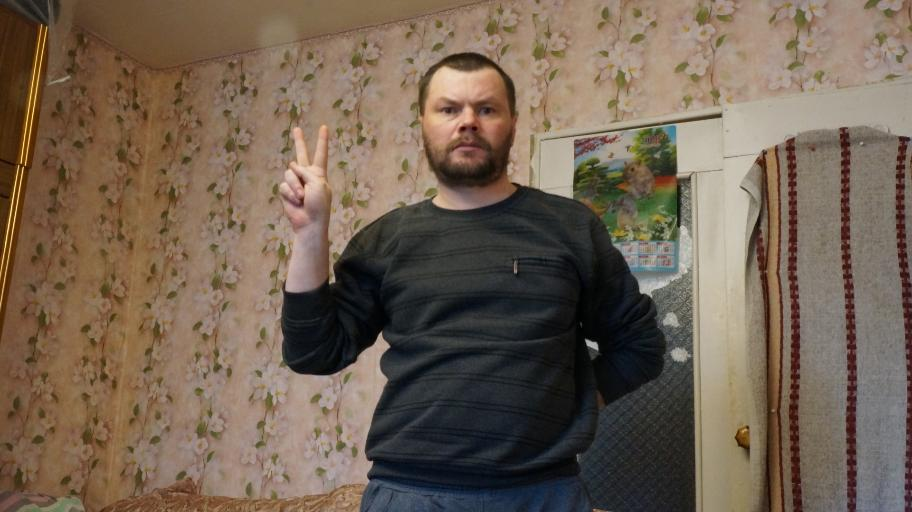peace: (276, 122, 332, 230)
